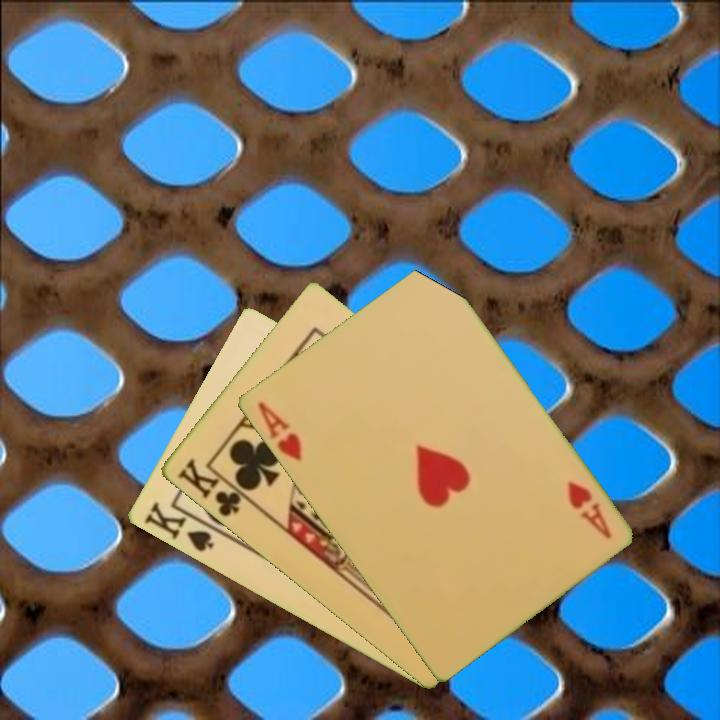Ah: (253, 398, 304, 464), (563, 477, 614, 542)
Kc: (173, 455, 252, 520)
Ks: (140, 498, 223, 555)
